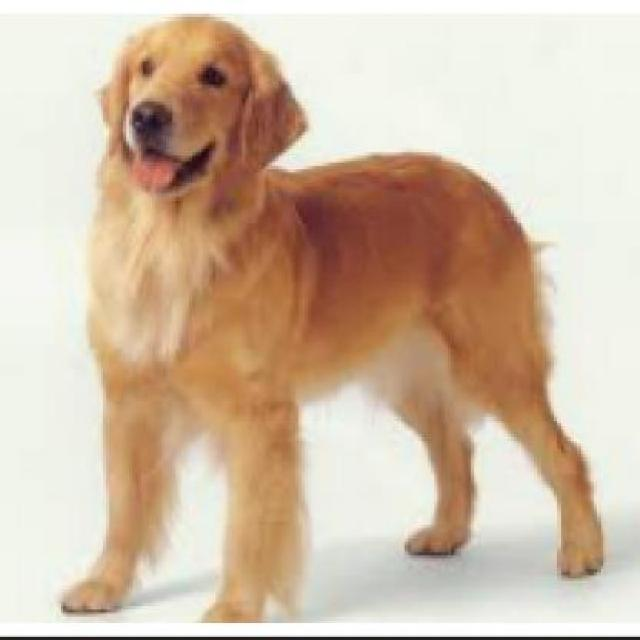Dog: (60, 8, 609, 624)
